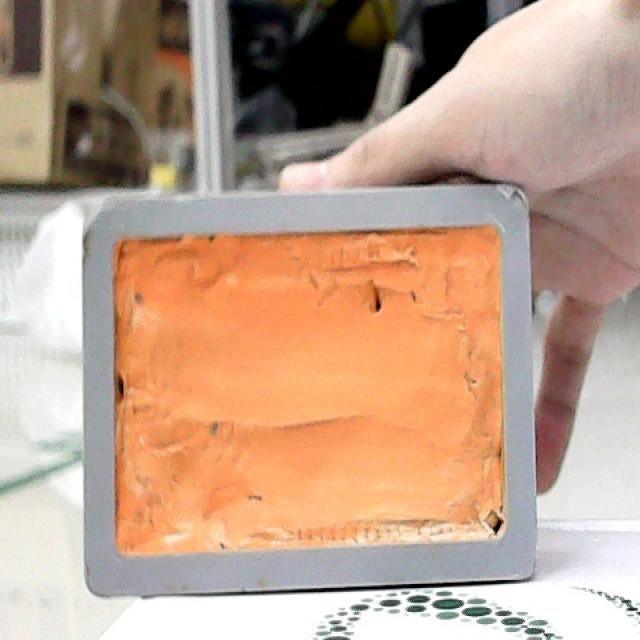block: (80, 193, 540, 581)
